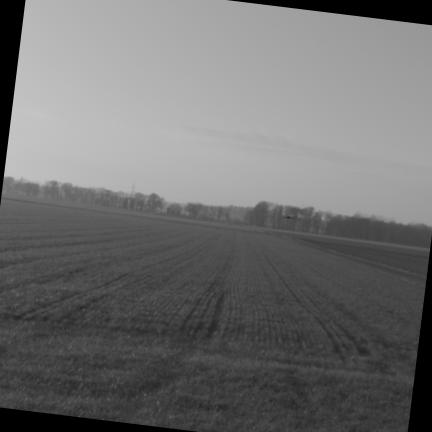Shahed: (283, 215, 294, 219)
